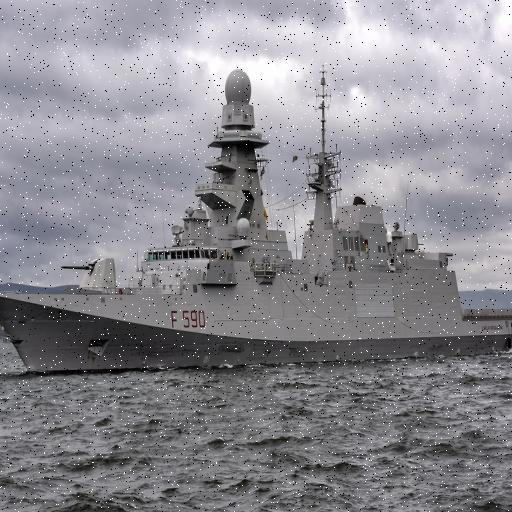Fragata: (1, 64, 512, 375)
